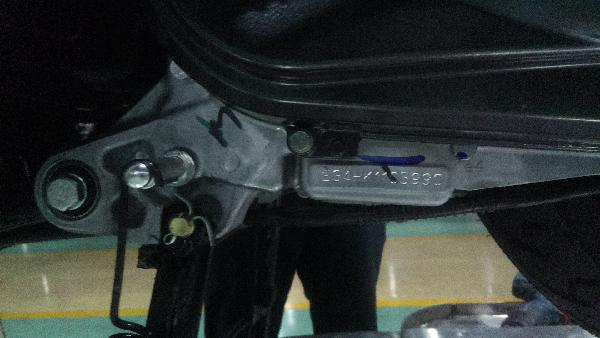box: (322, 169, 442, 187)
